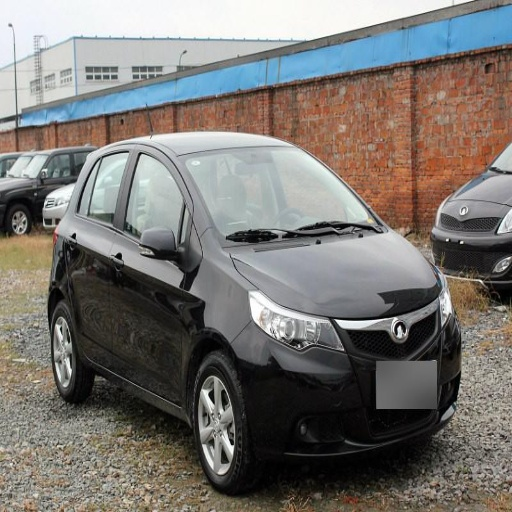front_bumper: (236, 286, 459, 457)
front_right_door: (113, 147, 198, 401)
front_right_light: (248, 291, 342, 351)
